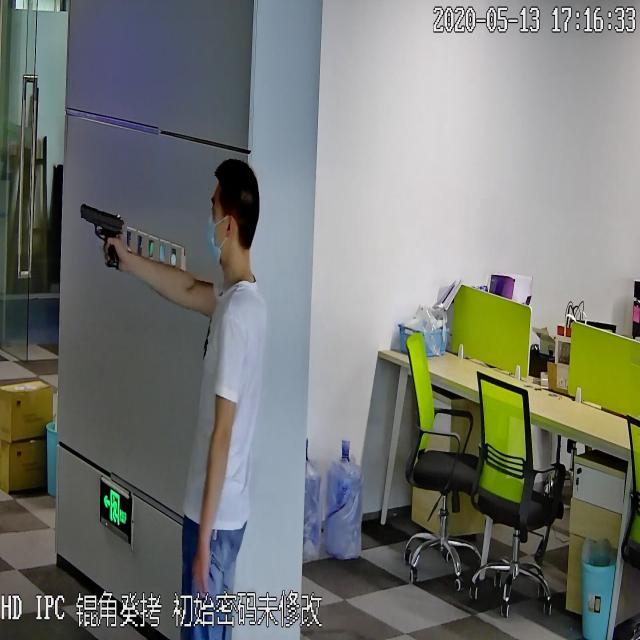gun: (76, 193, 127, 274)
